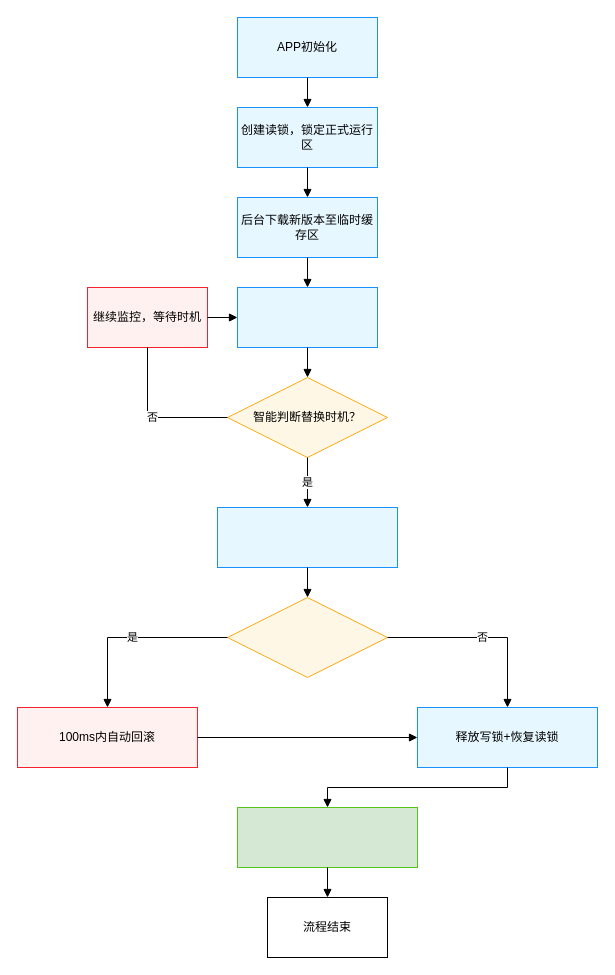
This 615x975 diagram has some shape labels left out. Here are the shapes that lost their labels. From the top down, the centre of each, then its label:
the point at 307,317: MD5+锚点双重校验
the point at 307,537: 释放读锁+添加写锁，完整替换
the point at 307,637: 替换异常？
the point at 327,837: 持读锁加载微应用（无感知）
